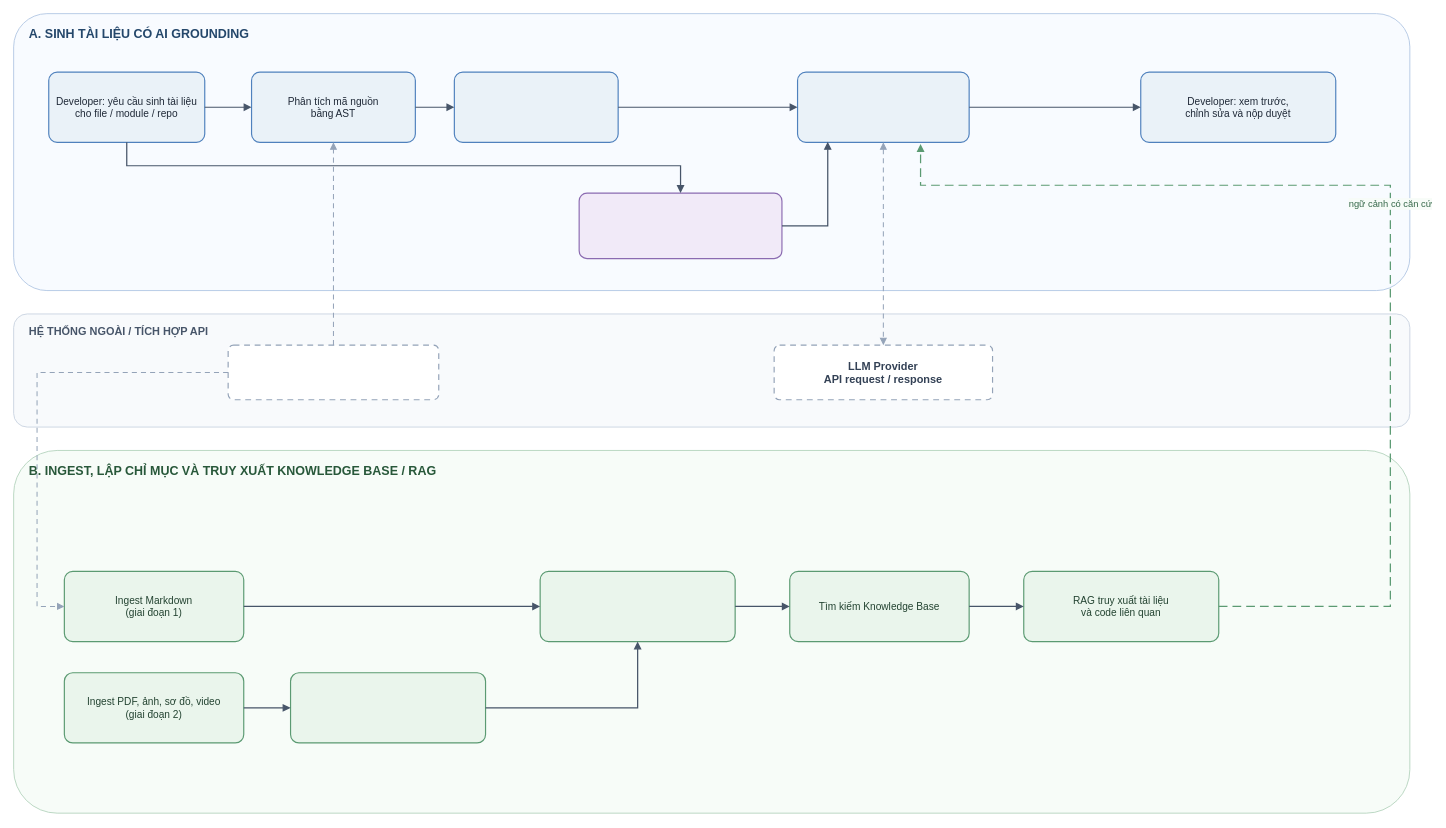
Image size: 1446x828. Some labels were removed from this diagram. Here are the shapes that lost their labels. From the top down, the centre of each, then its label:
At (535,107): "Xem coverage gap".
At (883,107): "Sinh Draft có grounding và confidence score".
At (680,225): "Technical Lead: chọn template và quy tắc định dạng".
At (333,372): "GitHub Repository / source files".
At (637,606): "Lập chỉ mục và liên kết tài liệu ↔ code".
At (388,707): "OCR / trích xuất nội dung đa định dạng".
